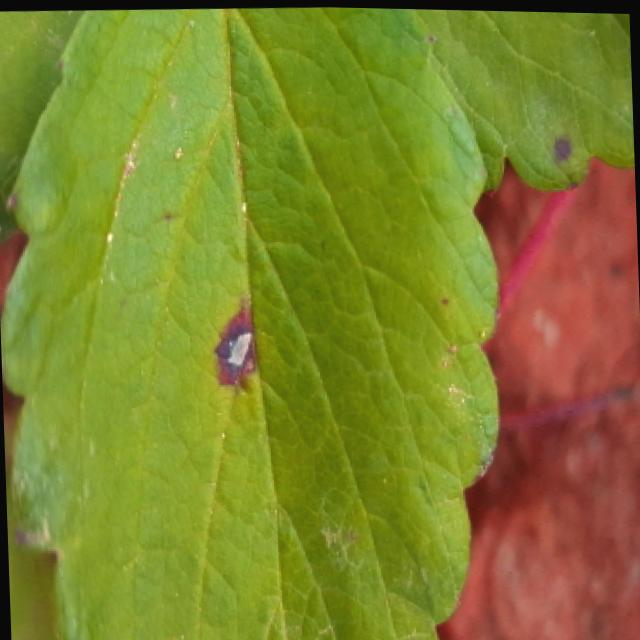Leaf Spot: (0, 5, 504, 640), (414, 7, 634, 200), (0, 10, 82, 245)
